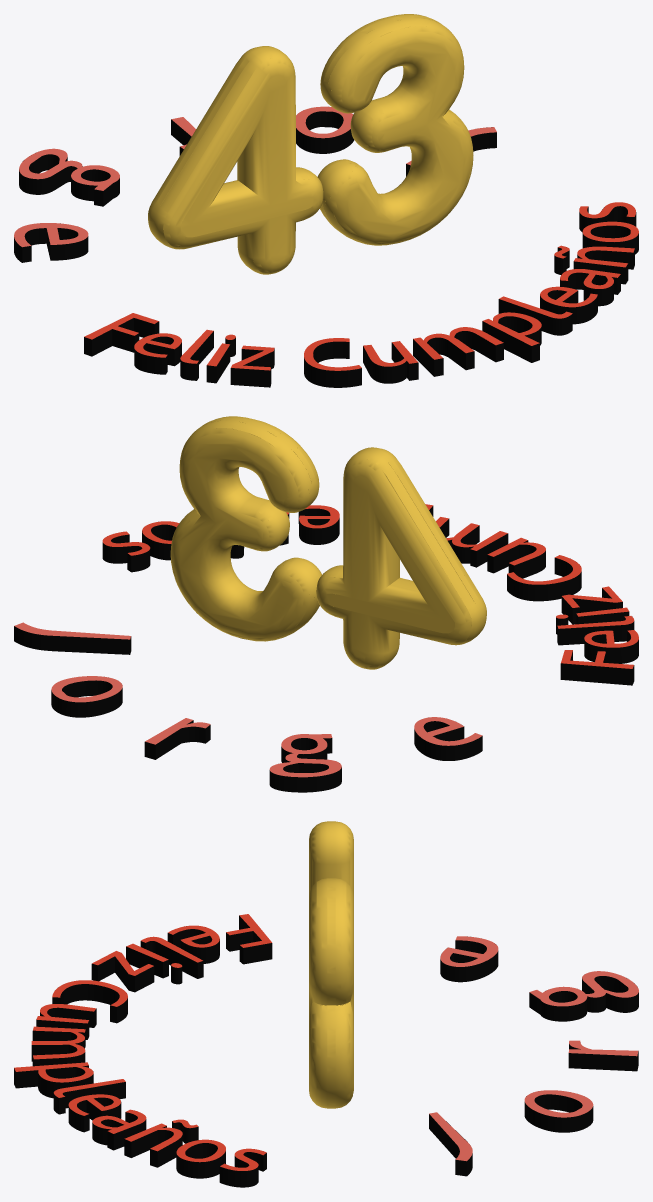
File: Feliz43Cumpleaos2.glb
3 renders of one model, top to bottom at view 1: azimuth 30°, elevation 25°; view 2: azimuth 150°, elevation 25°; view 3: azimuth 270°, elevation 25°, orthographic. The views are drawn at different scales.
Parts seen in each view (by area): view 1: Text.001, Text.002, Text.003; view 2: Text.001, Text.002, Text.003; view 3: Text.002, Text.001, Text.003.
Boxes of the visible parts, bbox=[...] form: Text.001: bbox=[148, 14, 473, 274]; Text.002: bbox=[84, 202, 638, 387]; Text.003: bbox=[14, 106, 496, 262]; Text.001: bbox=[170, 416, 486, 669]; Text.002: bbox=[102, 504, 638, 685]; Text.003: bbox=[14, 622, 482, 792]; Text.002: bbox=[14, 914, 272, 1187]; Text.001: bbox=[309, 821, 353, 1108]; Text.003: bbox=[429, 936, 638, 1176].
Bounding box in the file's own units: 2 × 0.7781 × 2.05.
